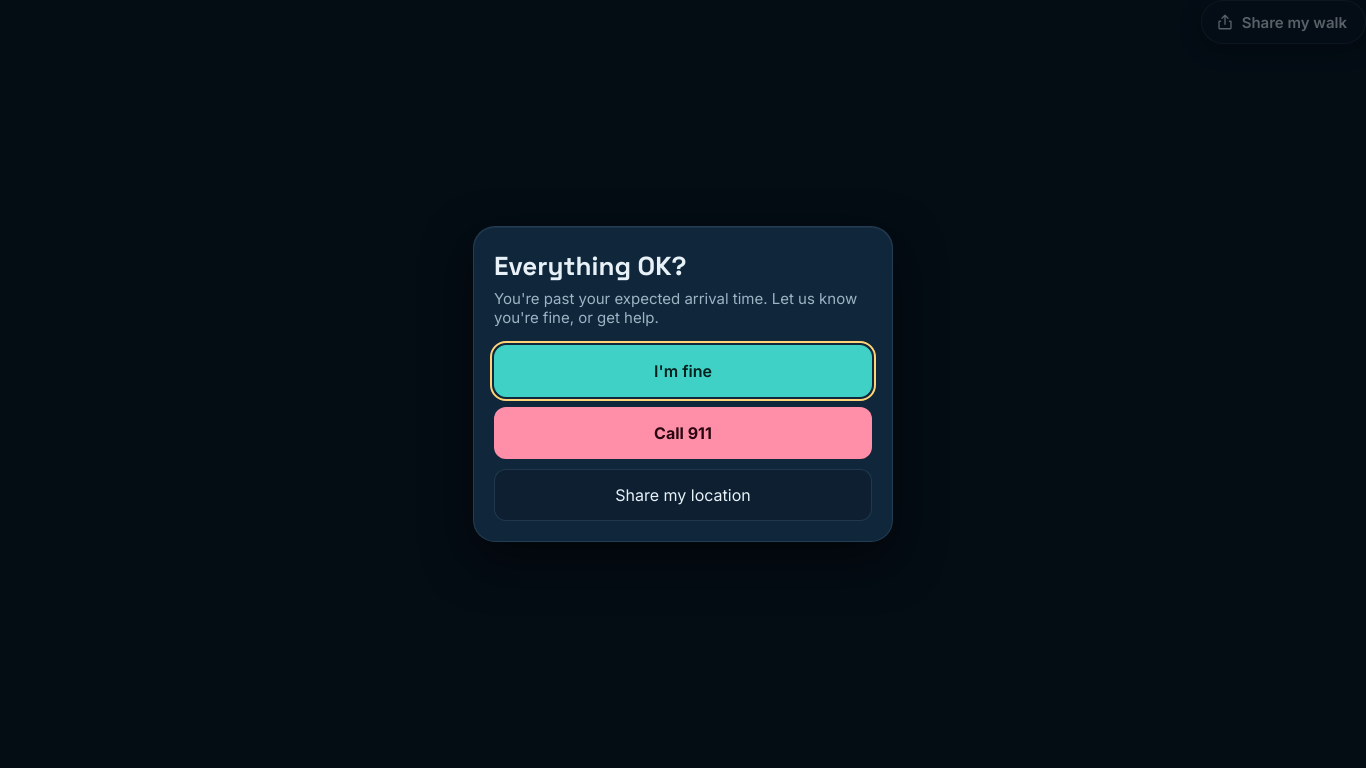
Scenario: ShareWalkPanel › checks in ten minutes after the expected arrival and re-shares on request
Check: the dialog "Everything OK?" is shown, box [473,226,893,542]
Click the button "Share my location" at (683, 495), box [494,469,872,521]
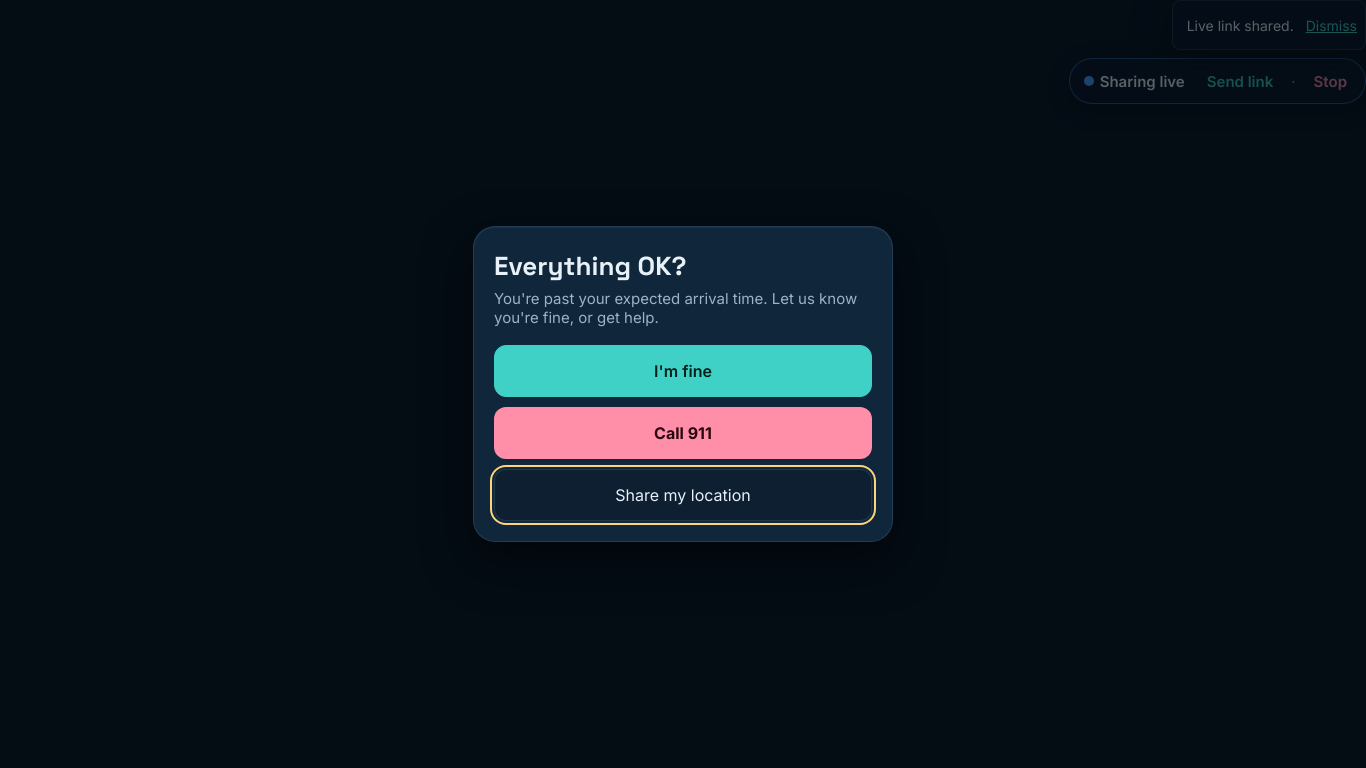
Click the button "I'm fine" at (683, 371), box [494,345,872,397]
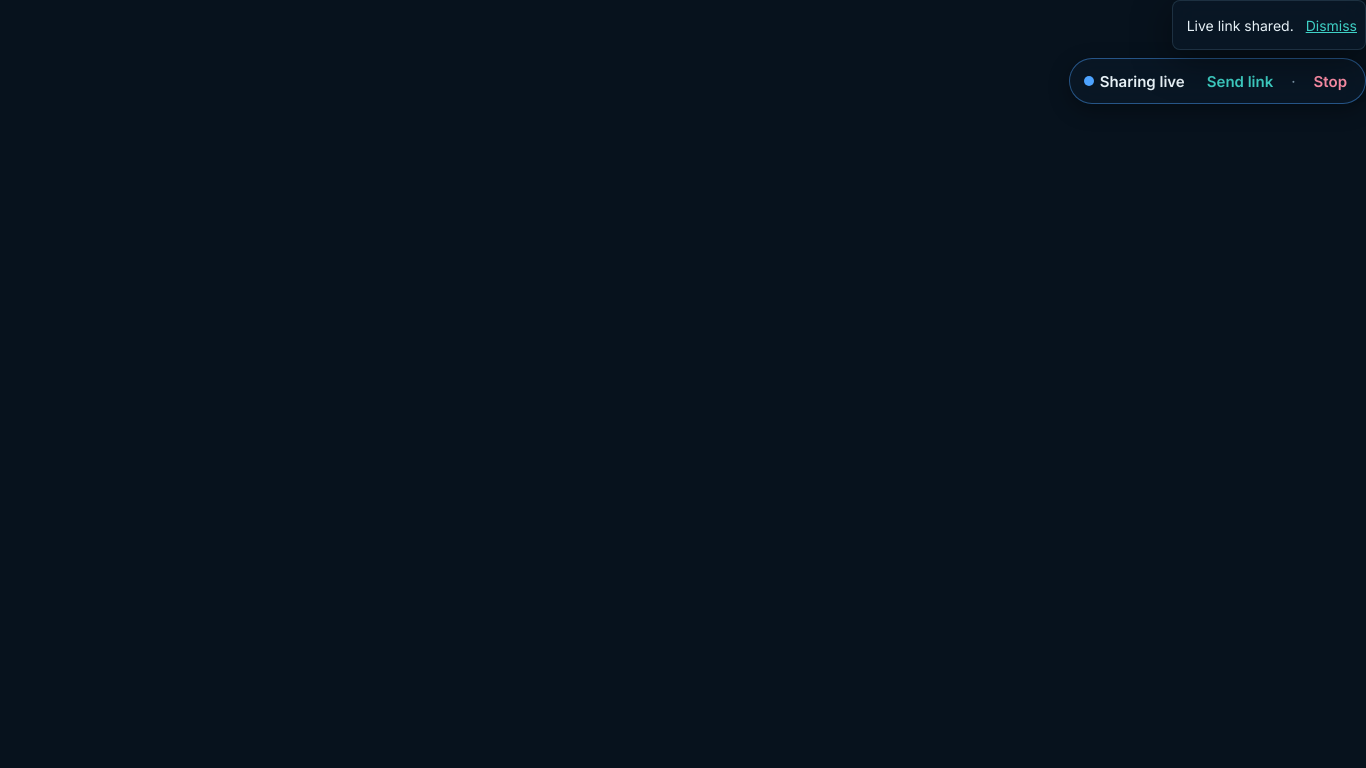
Check: the dialog is gone
